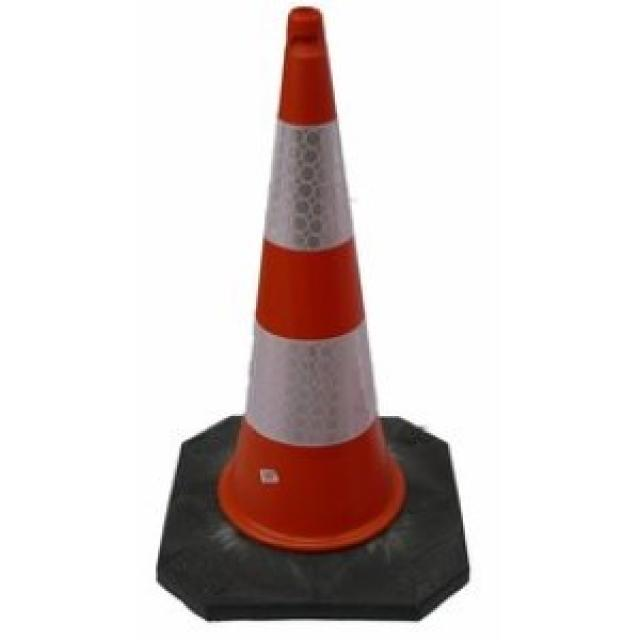cone: (154, 2, 472, 625)
